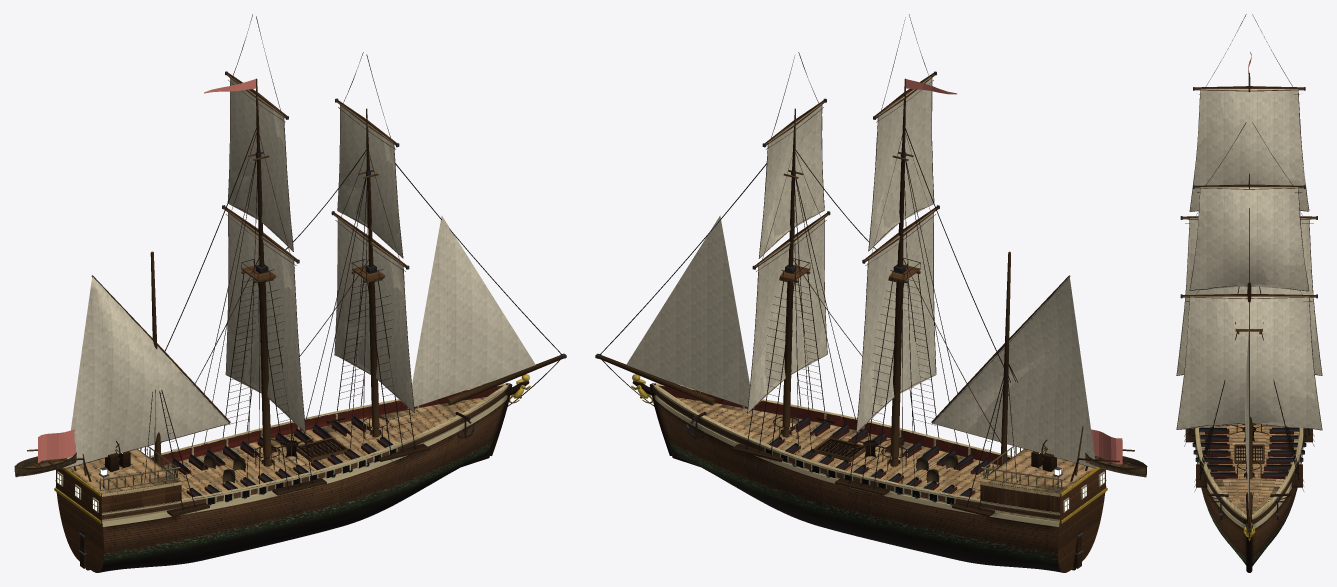
Rendered from pinnace.glb.
The picture shows the model from 3 angles, left to right: view 1: azimuth 30°, elevation 25°; view 2: azimuth 150°, elevation 25°; view 3: azimuth 270°, elevation 25°; orthographic projection. The views are drawn at different scales.
Parts seen in each view (by area): view 1: LOD0_Body, LOD0_Wood, LOD2_m1_SquareSail, LOD0_m2_AftSail, LOD2_m0_SquareSail, LOD0_Jib, LOD2_Body, LOD2_Wood, LOD1_Wood, LOD0_m1_SquareSail, LOD1_m1_SquareSail, LOD1_m2_AftSail (+8 smaller); view 2: LOD0_Body, LOD0_Wood, LOD2_m1_SquareSail, LOD2_m2_AftSail, LOD2_m0_SquareSail, LOD2_Jib, LOD2_Body, LOD2_Wood, LOD1_Wood, LOD0_m1_SquareSail, LOD1_m1_SquareSail, LOD0_m0_SquareSail (+8 smaller); view 3: LOD0_m0_SquareSail, LOD0_m1_SquareSail, LOD0_Body, LOD0_Wood, LOD2_m0_SquareSail, LOD2_Body, LOD1_m0_SquareSail, LOD1_m1_SquareSail, LOD2_m1_SquareSail, LOD0_m0_SquareYards, LOD0_m1_SquareYards, LOD2_m0_SquareYards (+8 smaller).
Boxes of the visible parts, x1,y1,x2,y2 form: LOD0_Body: (56, 291, 530, 572); LOD0_Wood: (14, 78, 566, 572); LOD2_m1_SquareSail: (226, 76, 304, 428); LOD0_m2_AftSail: (66, 276, 196, 467); LOD2_m0_SquareSail: (335, 111, 413, 407); LOD0_Jib: (408, 215, 522, 408); LOD2_Body: (67, 386, 507, 570); LOD2_Wood: (61, 150, 551, 570); LOD1_Wood: (57, 149, 563, 572); LOD0_m1_SquareSail: (226, 107, 304, 426); LOD1_m1_SquareSail: (227, 108, 305, 432); LOD1_m2_AftSail: (67, 282, 229, 467); LOD0_Body: (631, 291, 1105, 572); LOD0_Wood: (595, 78, 1147, 572); LOD2_m1_SquareSail: (858, 89, 934, 428); LOD2_m2_AftSail: (949, 276, 1095, 467); LOD2_m0_SquareSail: (749, 112, 826, 407); LOD2_Jib: (626, 215, 749, 406); LOD2_Body: (654, 386, 1094, 570); LOD2_Wood: (611, 157, 1100, 570); LOD1_Wood: (599, 108, 1104, 572); LOD0_m1_SquareSail: (856, 77, 935, 432); LOD1_m1_SquareSail: (860, 82, 935, 423); LOD0_m0_SquareSail: (748, 104, 825, 412); LOD0_m0_SquareSail: (1177, 187, 1314, 429); LOD0_m1_SquareSail: (1177, 89, 1315, 375); LOD0_Body: (1184, 424, 1314, 565); LOD0_Wood: (1185, 73, 1312, 572); LOD2_m0_SquareSail: (1178, 187, 1321, 429); LOD2_Body: (1199, 423, 1299, 565); LOD1_m0_SquareSail: (1180, 187, 1315, 428); LOD1_m1_SquareSail: (1182, 89, 1315, 336); LOD2_m1_SquareSail: (1177, 89, 1321, 375); LOD0_m0_SquareYards: (1176, 122, 1322, 430); LOD0_m1_SquareYards: (1176, 14, 1322, 375); LOD2_m0_SquareYards: (1182, 185, 1316, 298).
Bounding box in the file's own units: 38.34 × 34.95 × 9.68.
Materials: 5 (3 with a texture image).
